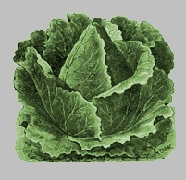cabbage: (11, 11, 176, 163)
